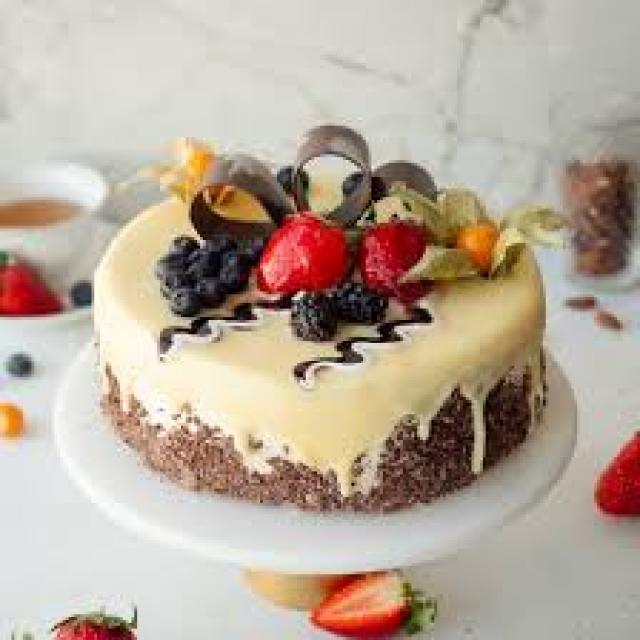Wet Waste: (52, 113, 575, 551)
